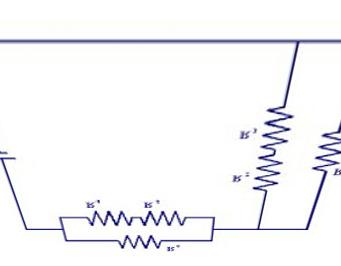resistor: (261, 99, 296, 149), (111, 228, 162, 255), (138, 207, 192, 232), (250, 155, 285, 193), (316, 121, 339, 178), (80, 207, 133, 229)
